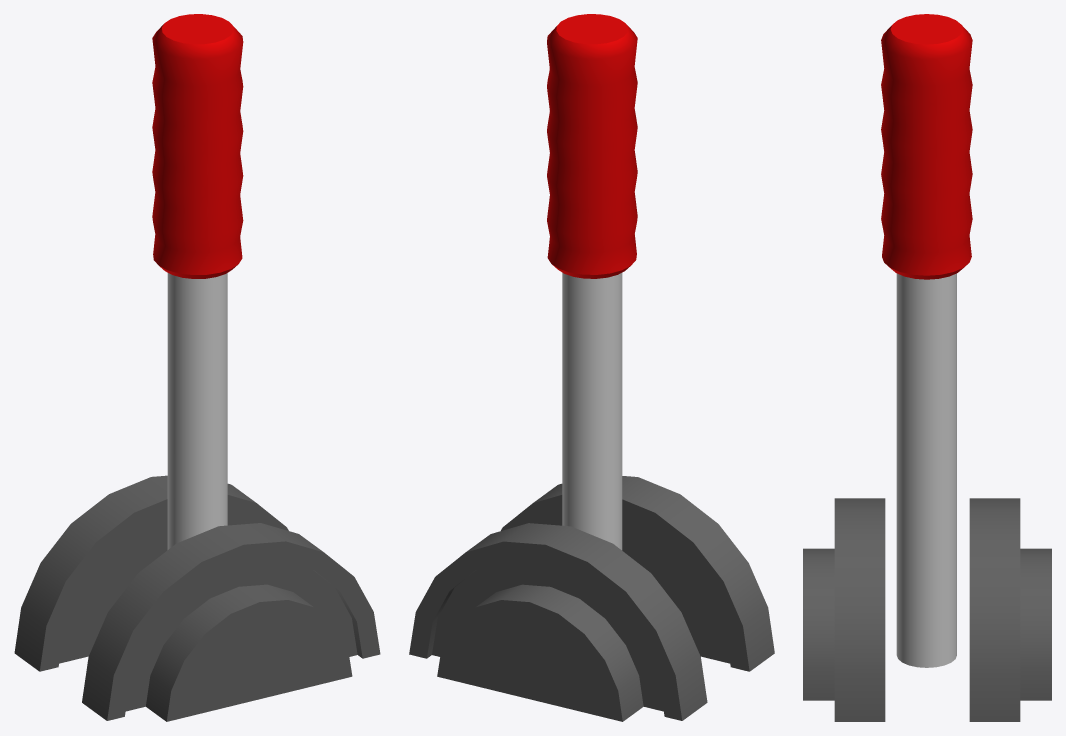
The model's file is lever_main.fbx.
The picture shows the model from 3 angles, left to right: view 1: azimuth 30°, elevation 25°; view 2: azimuth 150°, elevation 25°; view 3: azimuth 270°, elevation 25°; orthographic projection.
Visible parts, largest first — view 1: pCylinder2, pCylinder1, pCylinder3; view 2: pCylinder3, pCylinder1, pCylinder2; view 3: pCylinder1, pCylinder2, pCylinder3.
Part boxes in pixels (left/top/right/bottom): pCylinder2: left=82, top=523, right=380, bottom=721; pCylinder1: left=152, top=14, right=243, bottom=549; pCylinder3: left=14, top=475, right=288, bottom=671; pCylinder3: left=409, top=523, right=707, bottom=721; pCylinder1: left=547, top=14, right=637, bottom=550; pCylinder2: left=501, top=476, right=774, bottom=671; pCylinder1: left=881, top=14, right=972, bottom=667; pCylinder2: left=803, top=498, right=885, bottom=721; pCylinder3: left=969, top=498, right=1051, bottom=721.
Bounding box in the file's own units: 10.46 × 22.85 × 8.23.
